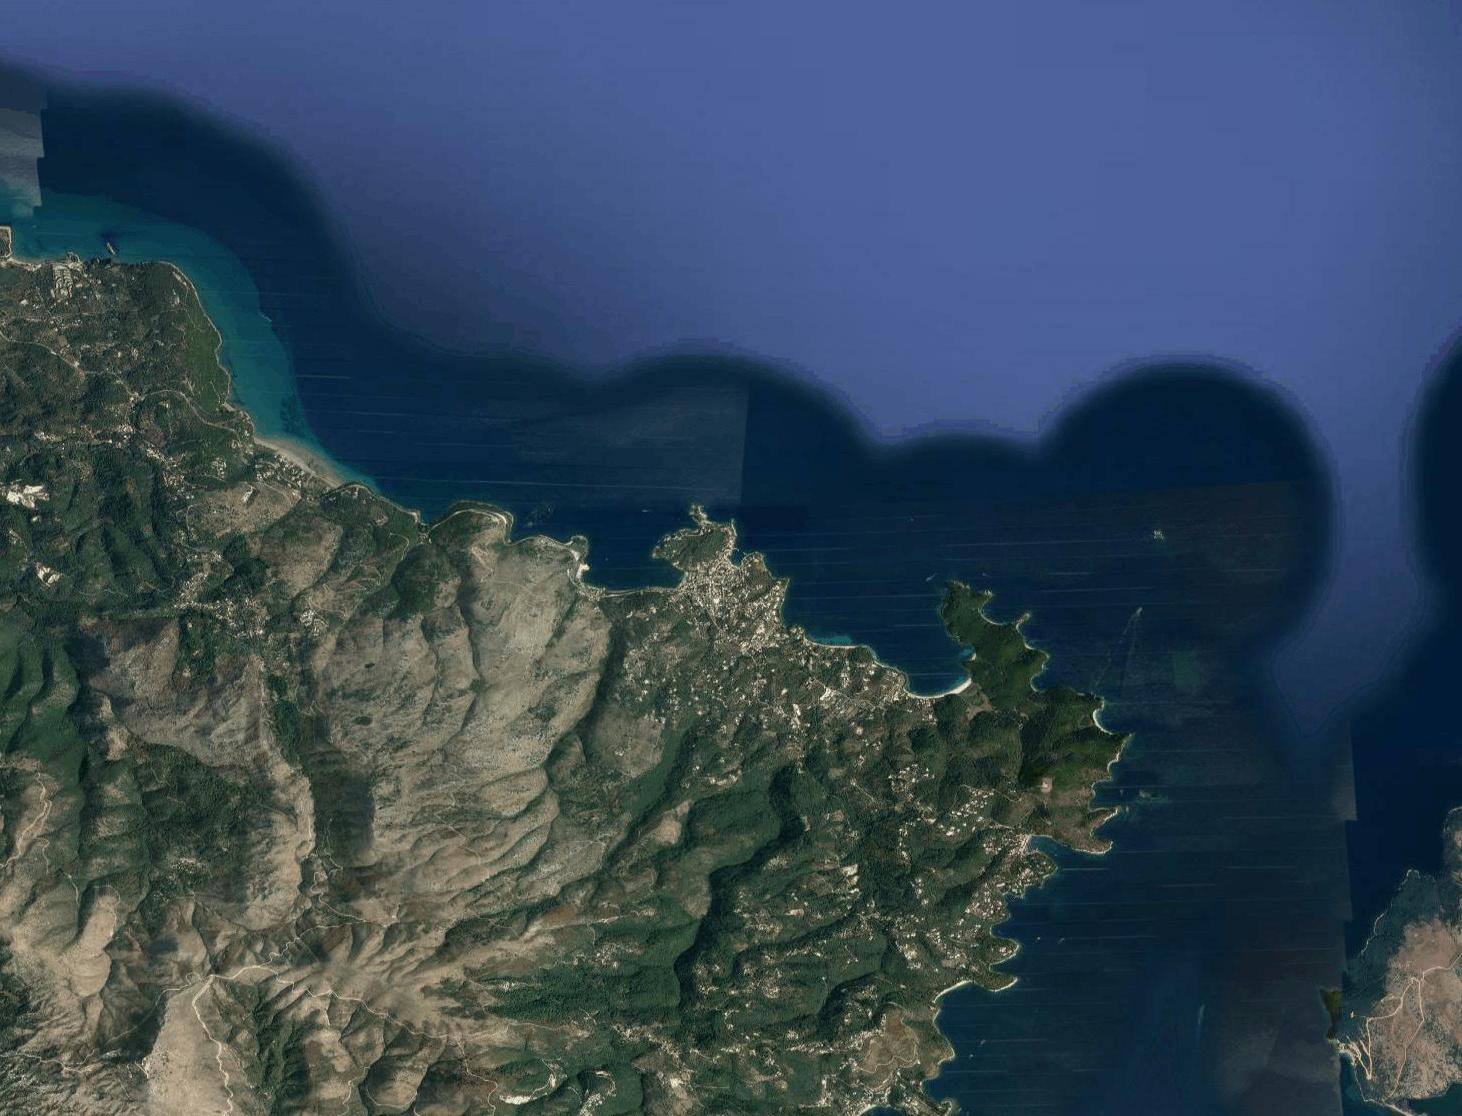harbor: (727, 544, 746, 567)
